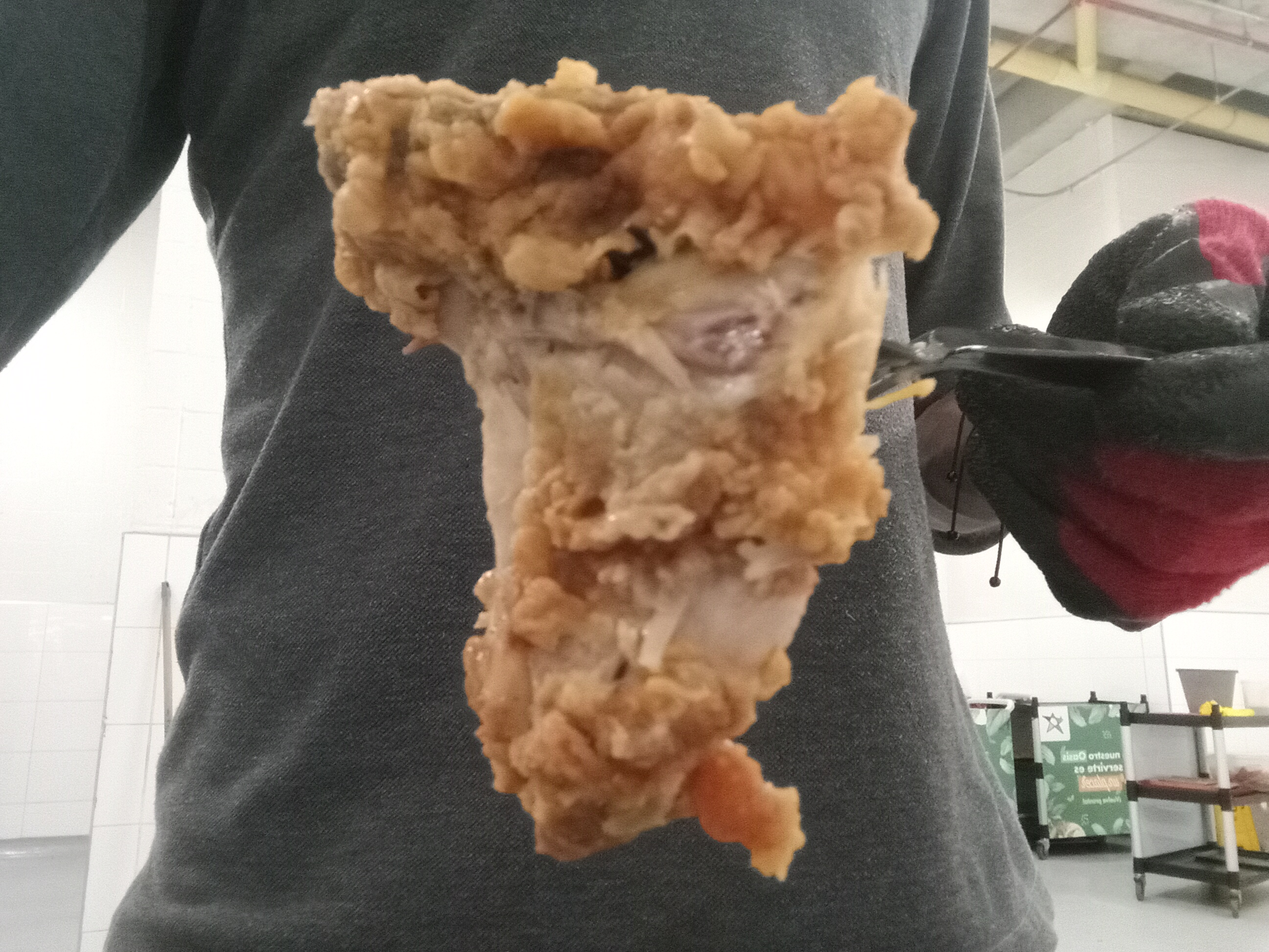Organico: (312, 60, 937, 883)
